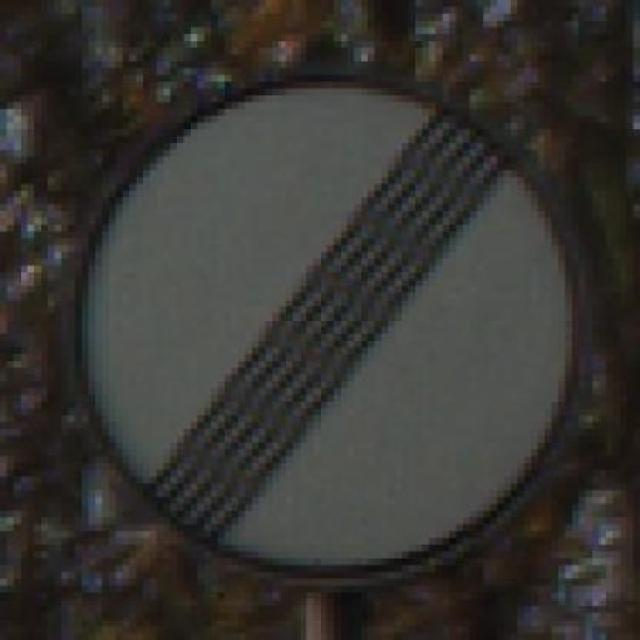End of all speed and passing limits: (62, 68, 592, 586)
